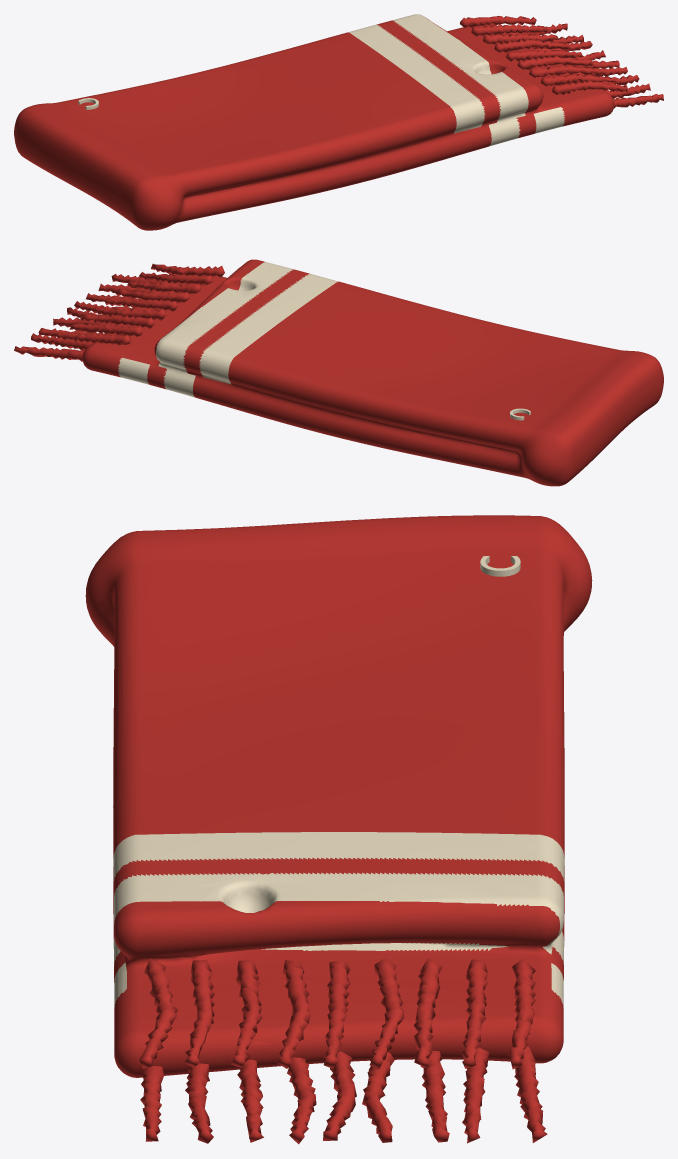
File: scarf_red.fbx
3 renders of one model, top to bottom at view 1: azimuth 30°, elevation 25°; view 2: azimuth 150°, elevation 25°; view 3: azimuth 270°, elevation 25°, orthographic. The views are drawn at different scales.
Parts seen in each view (by area): view 1: scarf_red; view 2: scarf_red; view 3: scarf_red.
Part boxes in pixels (bbox=[...]): scarf_red: bbox=[14, 14, 663, 230]; scarf_red: bbox=[14, 259, 663, 486]; scarf_red: bbox=[85, 515, 592, 1144].
Size of the model in its own units: 0.3102 by 0.033 by 0.1236.
